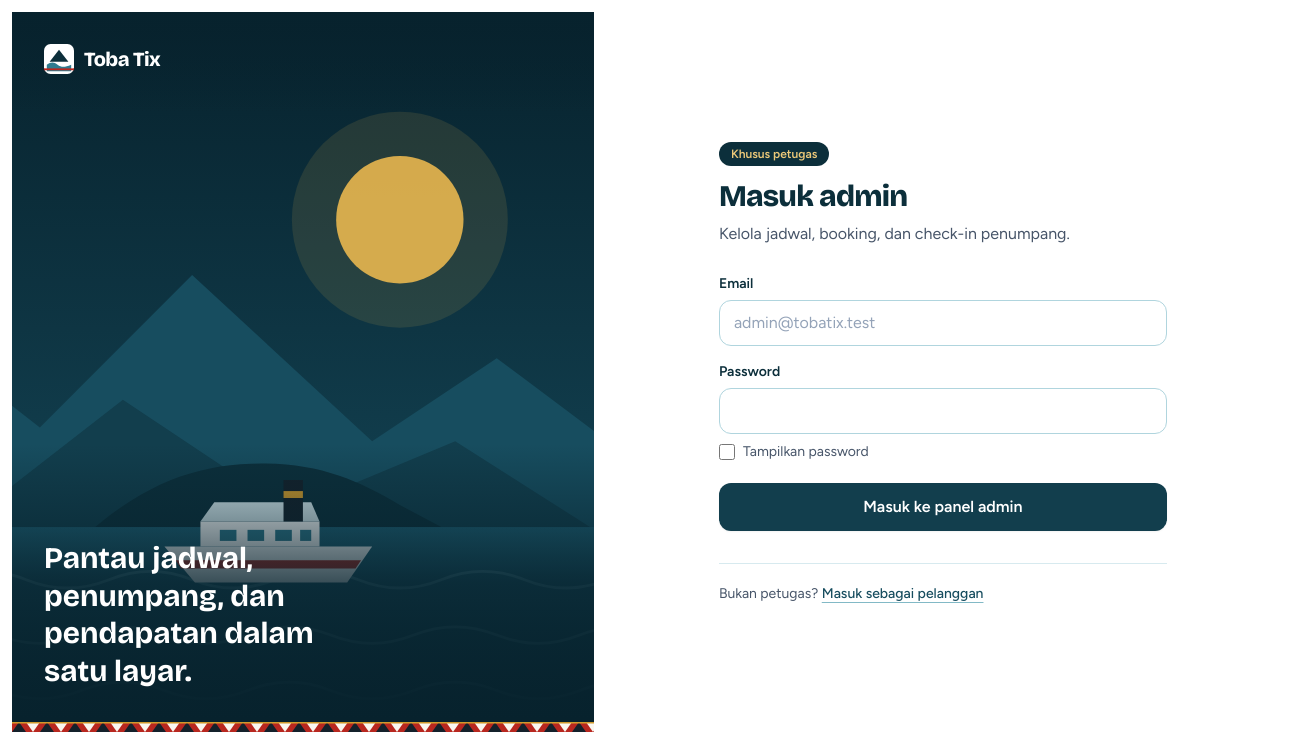
it: AdminLoginPage › akun pelanggan ditolak, sesi dibersihkan, dan tetap di halaman
In the field with id "username": (943, 322) 719,300 -> 1167,346, type "budi@test.com"
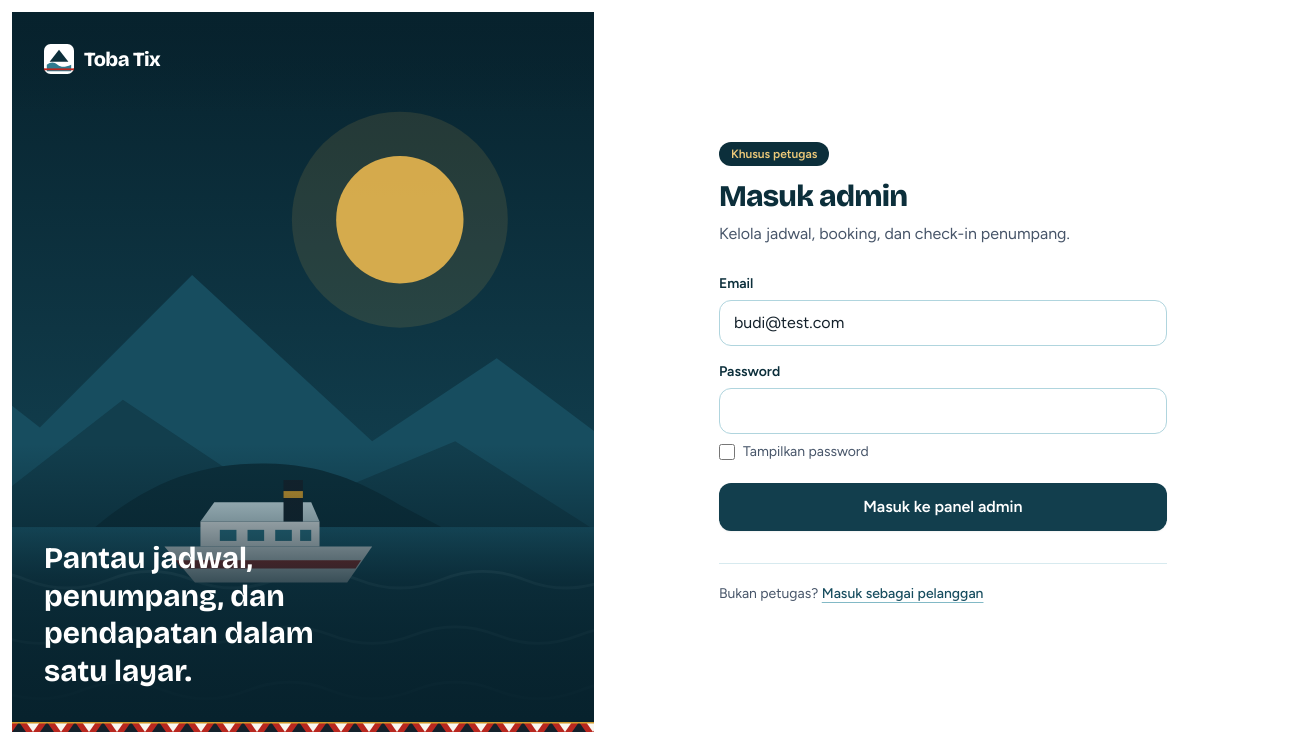
In the password field labelled "Password": (943, 410) 719,388 -> 1167,434, type "password123"
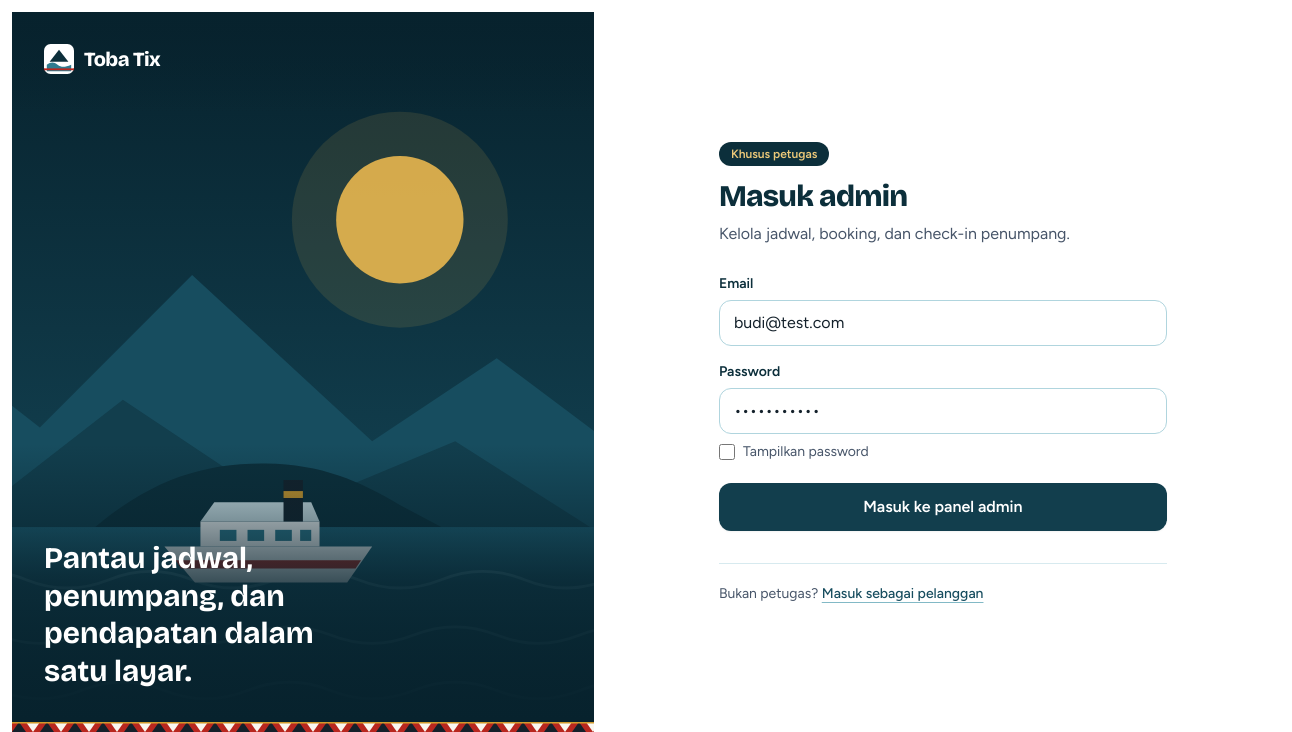
Submit the form, box 719,274 -> 1167,530
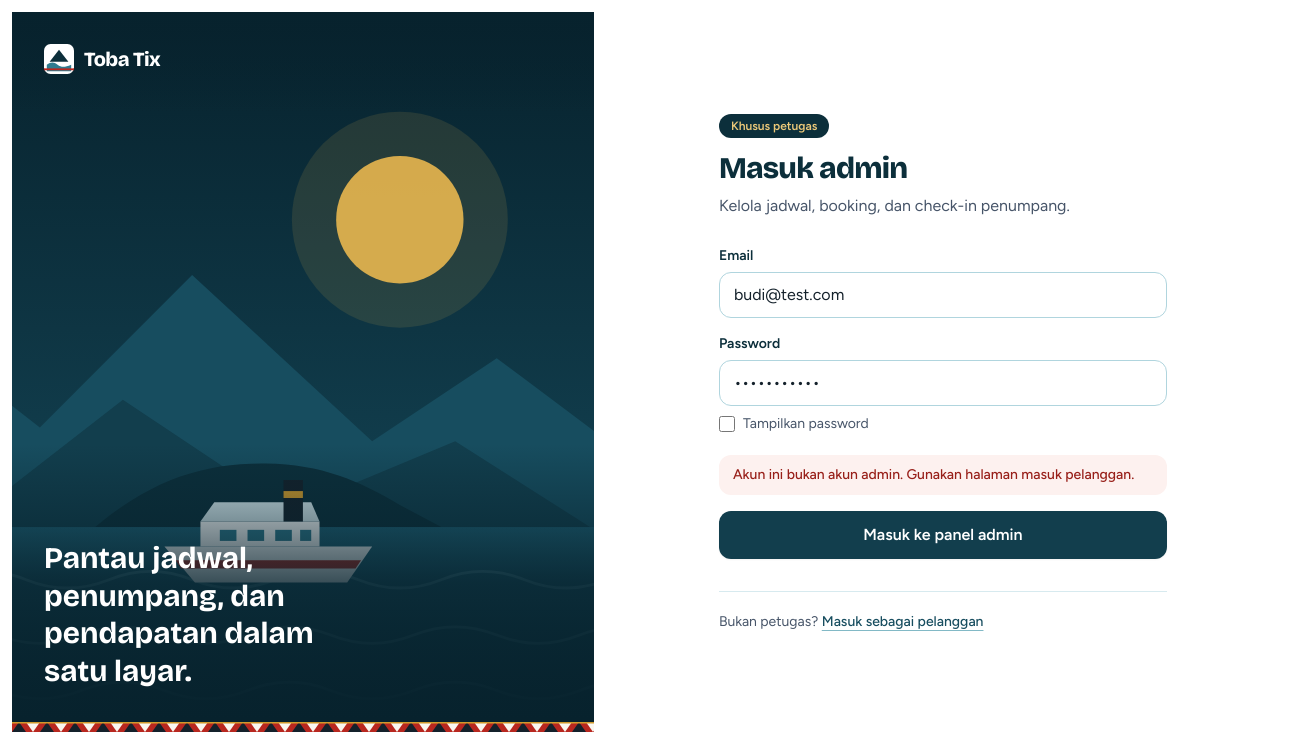
Result: the message "Akun ini bukan akun admin. Gunakan halaman masuk pelanggan." is shown at 719,454 -> 1167,494
